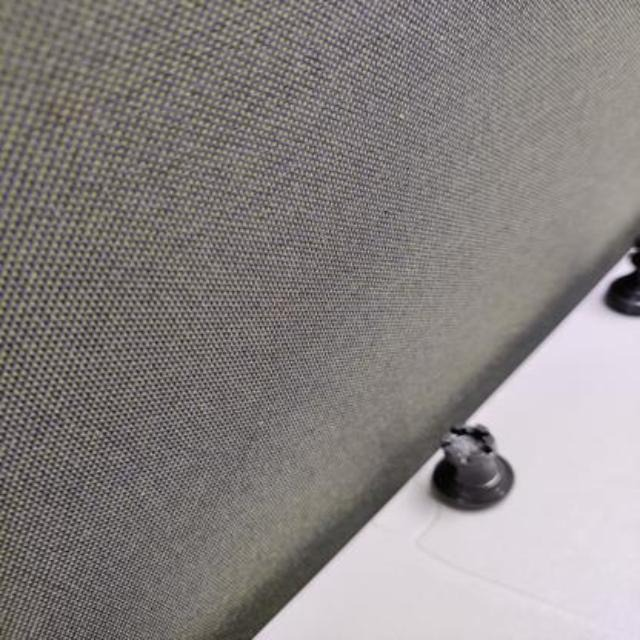black-rook: (431, 422, 515, 509)
